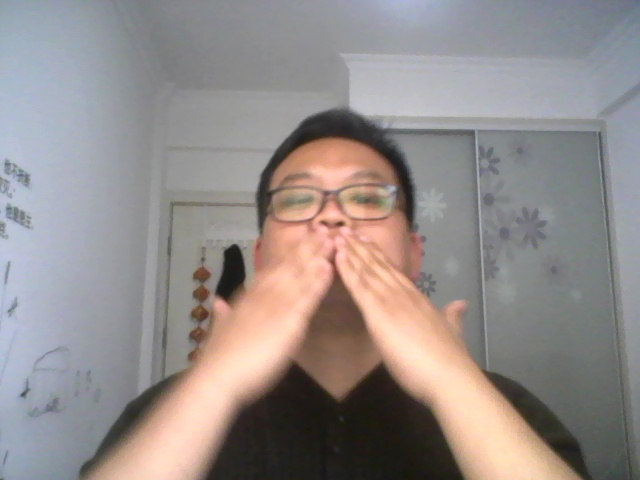Thank You: (185, 210, 490, 408)
